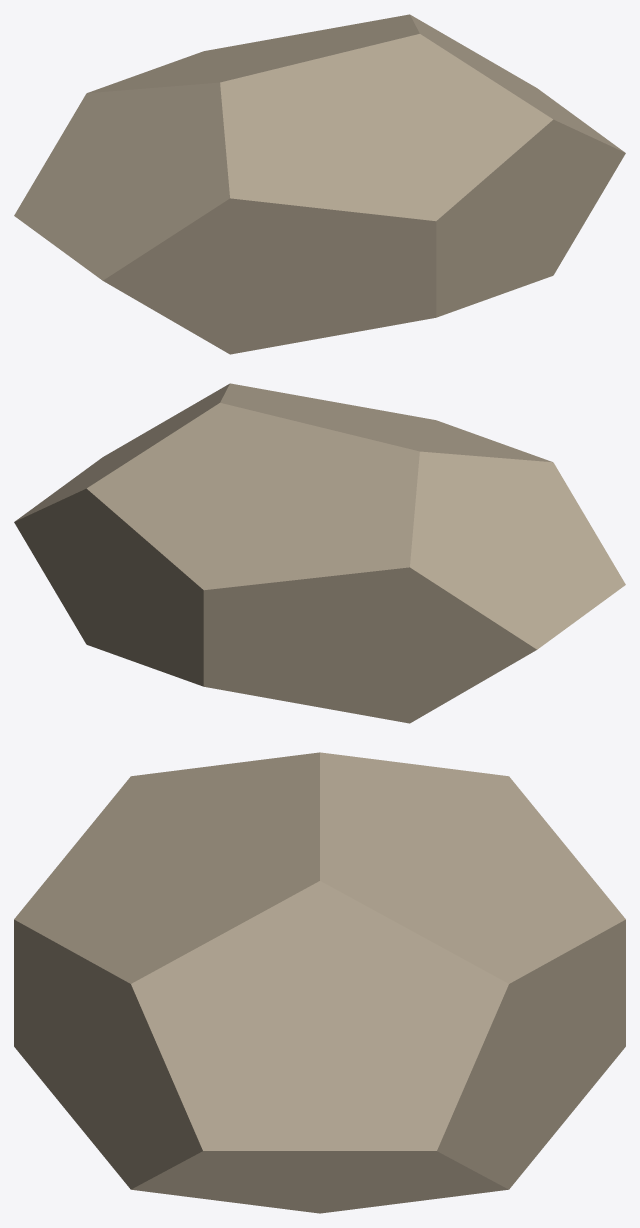
File: biome-clover-pebble.glb
3 renders of one model, top to bottom at view 1: azimuth 30°, elevation 25°; view 2: azimuth 150°, elevation 25°; view 3: azimuth 270°, elevation 25°, orthographic. The views are drawn at different scales.
Bounding box in the file's own units: 0.5343 × 0.2466 × 0.411.
